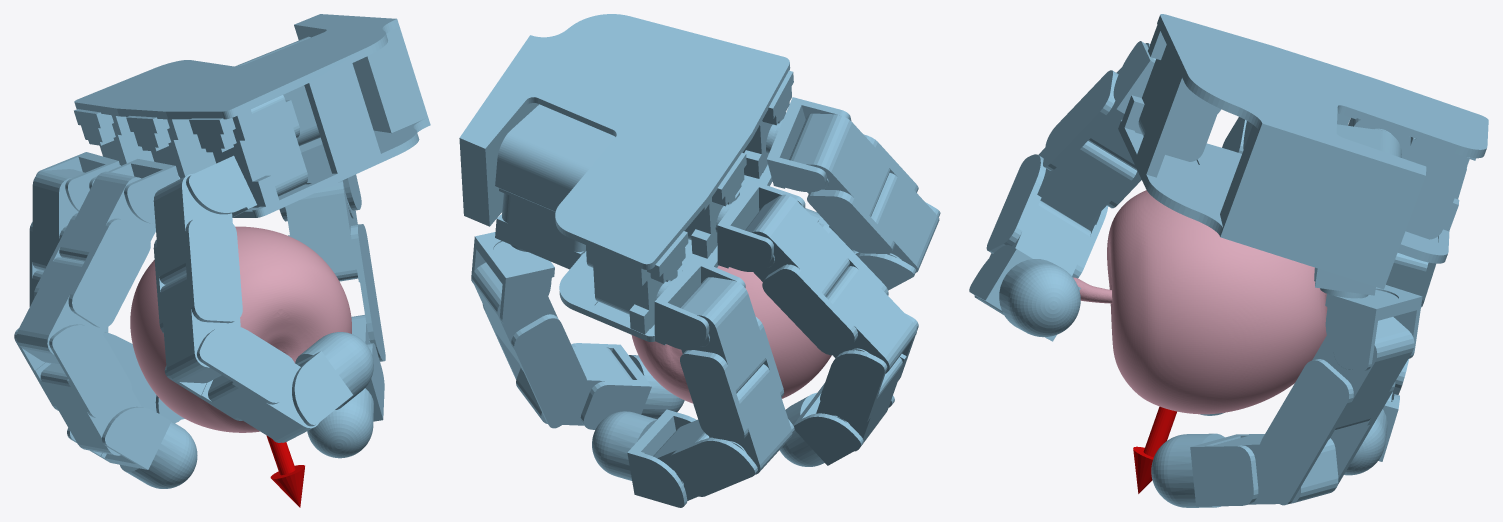
3 views of the same model, side by side, from view 1: azimuth 30°, elevation 25°; view 2: azimuth 150°, elevation 25°; view 3: azimuth 270°, elevation 25° (orthographic). The views are drawn at different scales.
Visible parts, largest first — view 1: world, apple.stl; view 2: world, apple.stl; view 3: world, apple.stl.
Part boxes in pixels (x1=…): world: x1=14, y1=14, x2=430, y2=507; apple.stl: x1=130, y1=226, x2=351, y2=432; world: x1=459, y1=14, x2=940, y2=507; apple.stl: x1=631, y1=265, x2=831, y2=403; world: x1=969, y1=14, x2=1488, y2=507; apple.stl: x1=1073, y1=190, x2=1327, y2=414.
Size of the model in its own units: 0.1597 by 0.1669 by 0.1687.
